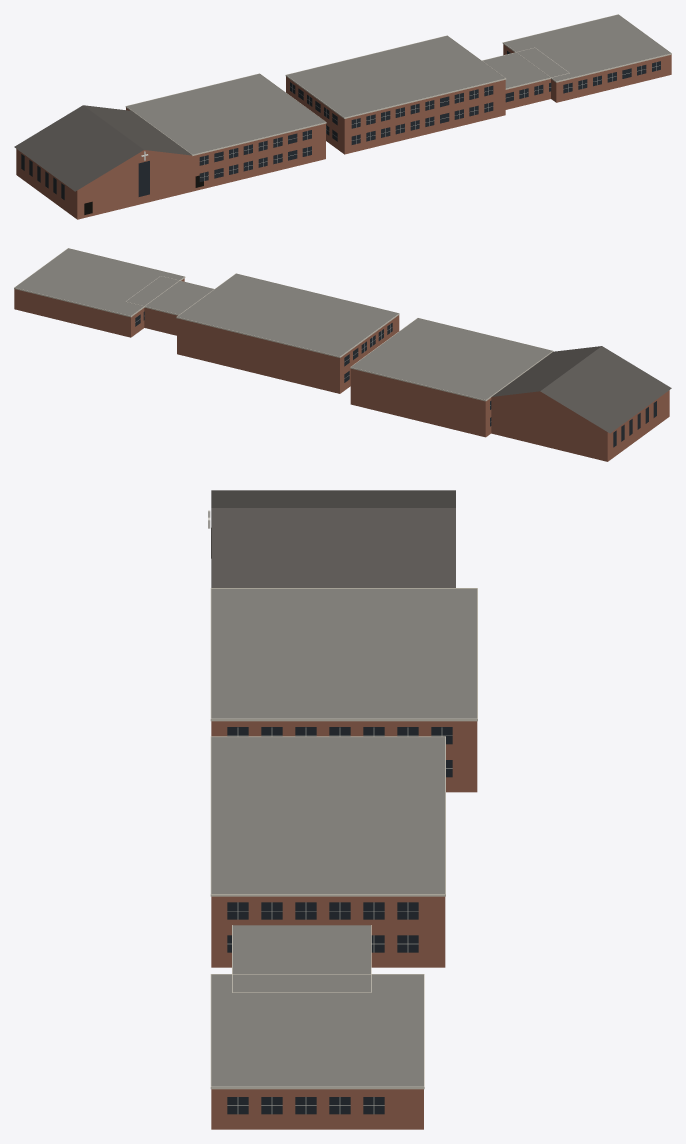
The model's file is st-pauls-methodist.glb.
3 views of the same model, one above another, from view 1: azimuth 30°, elevation 25°; view 2: azimuth 150°, elevation 25°; view 3: azimuth 270°, elevation 25° (orthographic). The views are drawn at different scales.
Parts seen in each view (by area): view 1: st_roof, st_brick, st_shingle, st_glass, st_stone, st_sash; view 2: st_roof, st_brick, st_shingle, st_stone, st_glass; view 3: st_roof, st_shingle, st_brick, st_glass, st_stone, st_sash.
Part boxes in pixels (bbox=[...]): st_roof: bbox=[127, 14, 670, 154]; st_brick: bbox=[16, 44, 671, 219]; st_shingle: bbox=[14, 105, 191, 191]; st_glass: bbox=[21, 51, 660, 199]; st_stone: bbox=[125, 14, 671, 155]; st_sash: bbox=[200, 62, 660, 180]; st_roof: bbox=[15, 248, 552, 399]; st_brick: bbox=[14, 278, 669, 461]; st_shingle: bbox=[492, 346, 671, 433]; st_stone: bbox=[14, 248, 553, 401]; st_glass: bbox=[135, 311, 656, 447]; st_roof: bbox=[211, 589, 477, 1086]; st_shingle: bbox=[211, 490, 455, 587]; st_brick: bbox=[211, 721, 477, 1129]; st_glass: bbox=[227, 727, 452, 1114]; st_stone: bbox=[210, 588, 477, 1089]; st_sash: bbox=[227, 727, 452, 1113].
Size of the model in its own units: 130 by 11.1 by 25.36.
